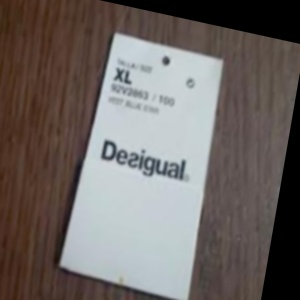desigual: (115, 73, 267, 226)
